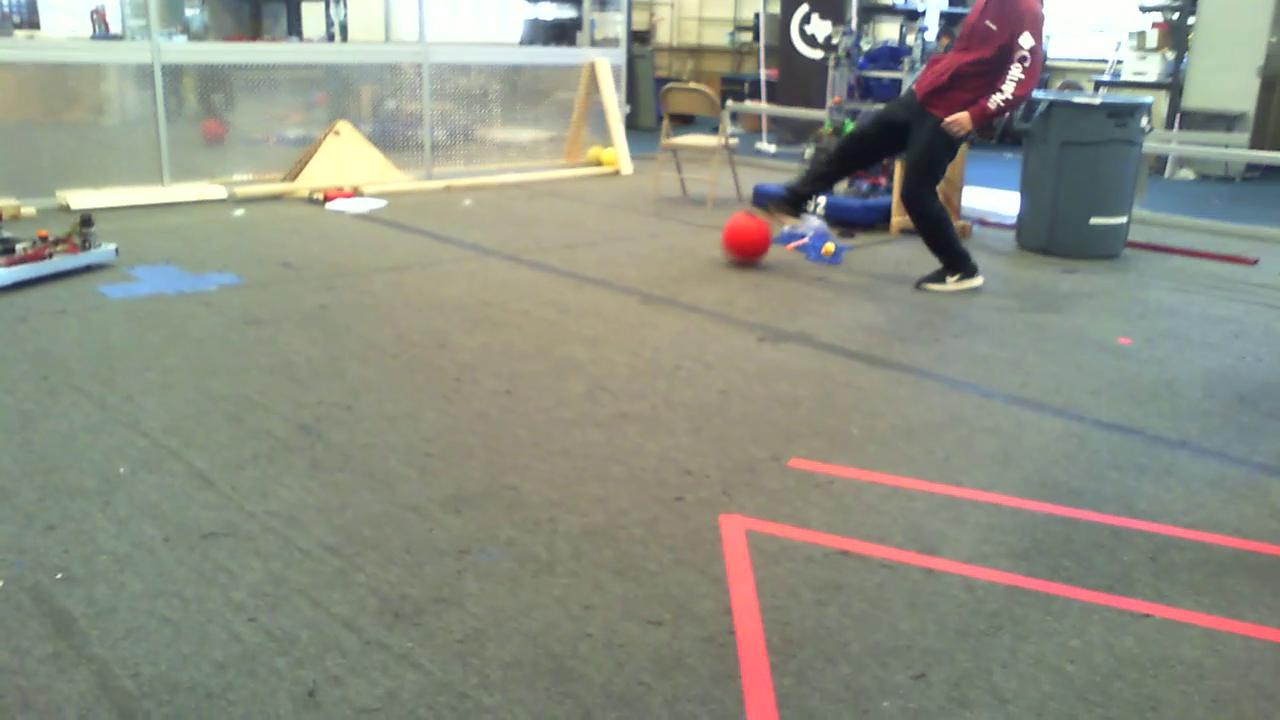Red_Ball: (716, 208, 771, 268)
